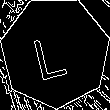L_N: (35, 24, 76, 81)
